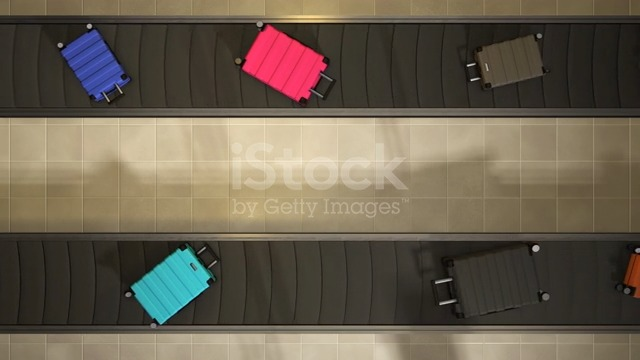Bag: (426, 238, 560, 324), (237, 21, 341, 108), (123, 241, 224, 328), (459, 23, 557, 97), (56, 23, 135, 110), (624, 246, 640, 297)
Handle: (430, 273, 460, 313), (194, 242, 223, 272), (306, 72, 336, 100), (98, 81, 126, 109), (459, 58, 481, 85)
